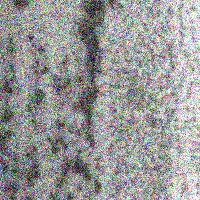patches: (76, 1, 106, 127)
pitted_surface: (105, 1, 200, 200), (0, 34, 87, 161)
